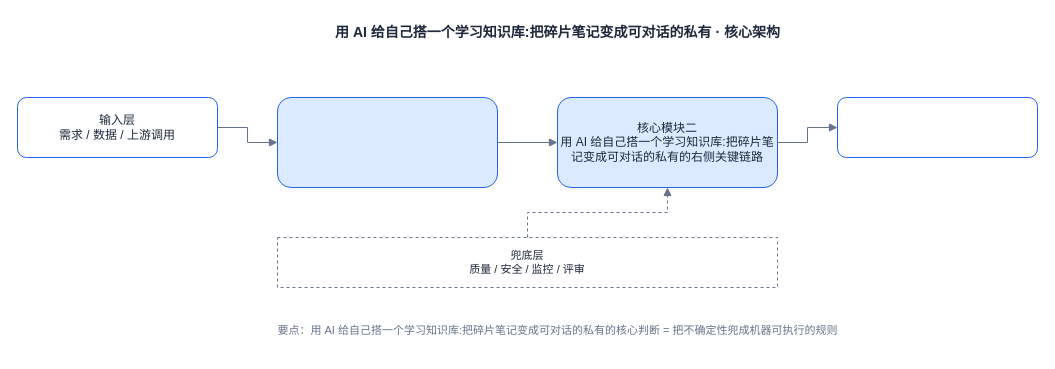
This 1055x369 diagram has some shape labels left out. Each missing label, with the centre of its shape:
"核心模块一 用 AI 给自己搭一个学习知识库:把碎片笔记变成可对话的私有的左侧关键链路" goes at pixel 387 142.
"输出 / 结果 产物 / 上线 / 反馈" goes at pixel 937 127.
